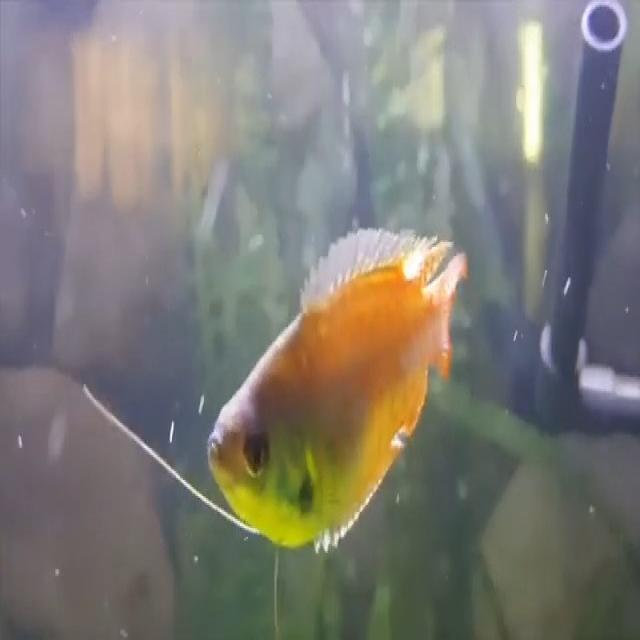fish: (204, 227, 473, 556)
